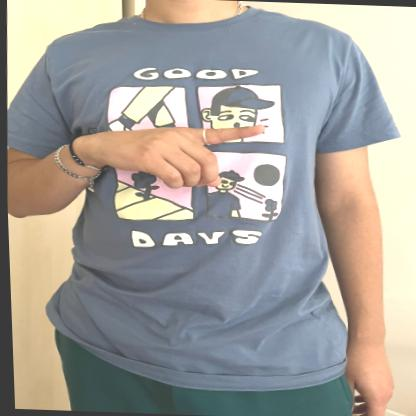S: (78, 112, 274, 198)
